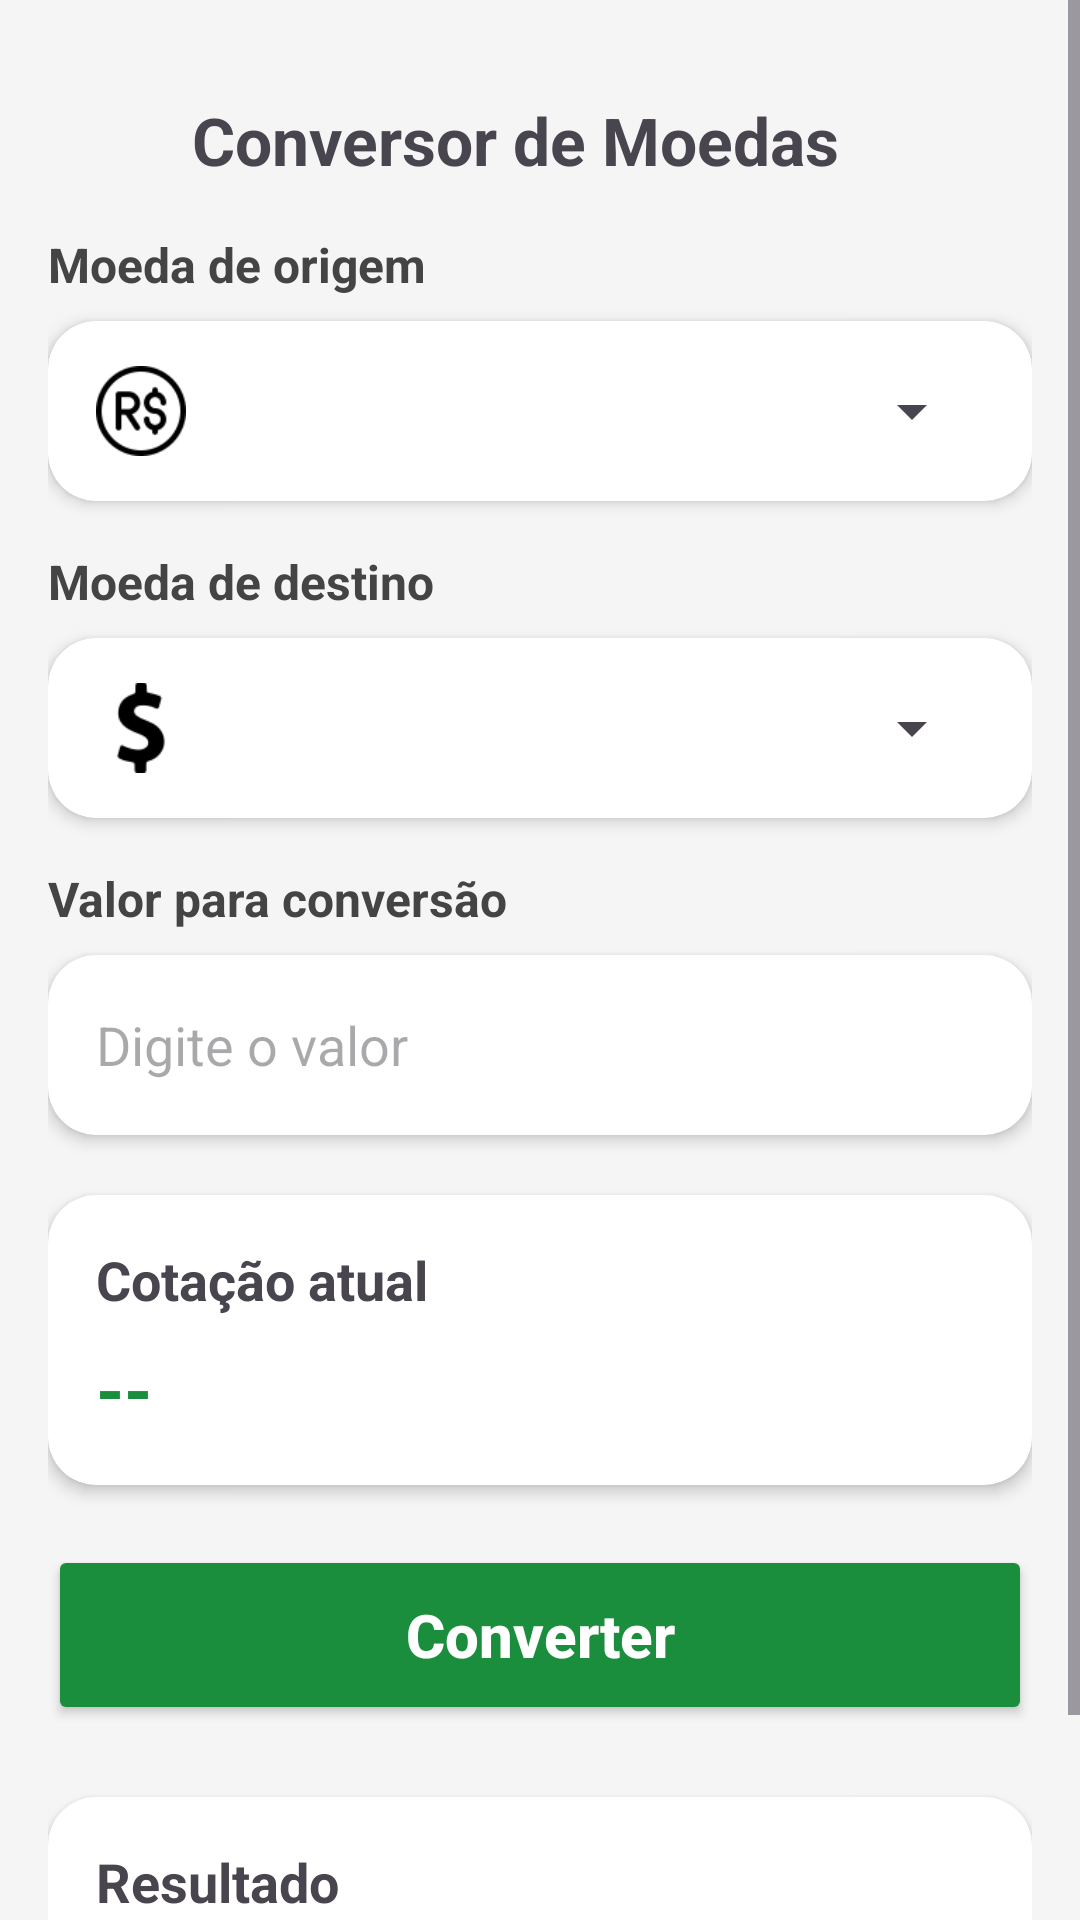

Screen size 1080x1920. Icon name, then its center in pixels as point (x, y):
dolar: point (141, 728)
real: point (141, 411)
